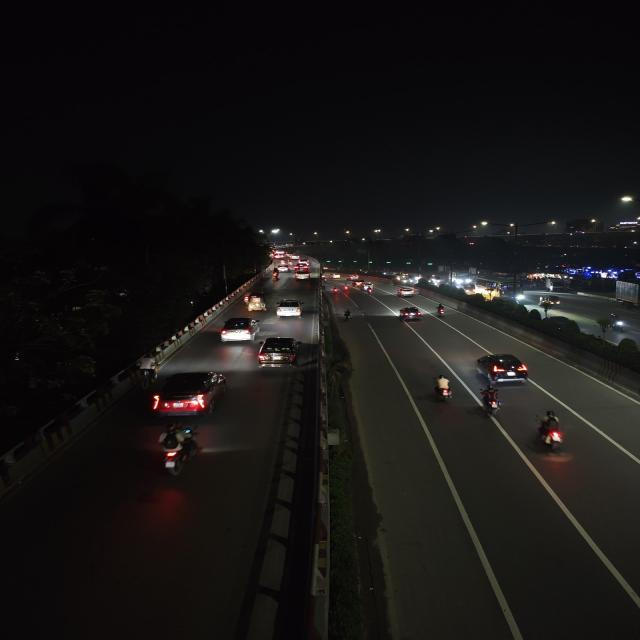bus: (477, 277, 521, 301), (449, 270, 472, 286)
car: (149, 369, 230, 419), (475, 351, 535, 386), (254, 335, 306, 371), (217, 316, 262, 344), (275, 298, 304, 320), (397, 305, 424, 321), (395, 286, 418, 298), (294, 270, 312, 280), (347, 274, 360, 282), (331, 273, 340, 280)
cng: (244, 291, 268, 311), (538, 294, 564, 308)
motorcycle: (155, 424, 202, 478), (530, 408, 572, 456), (428, 372, 458, 406), (477, 384, 506, 419), (608, 312, 627, 333), (433, 302, 448, 318), (340, 307, 354, 323), (362, 283, 374, 295), (271, 268, 281, 280), (341, 284, 349, 294), (333, 286, 341, 295), (344, 282, 352, 290)
truck: (614, 276, 640, 310), (544, 277, 567, 293)
